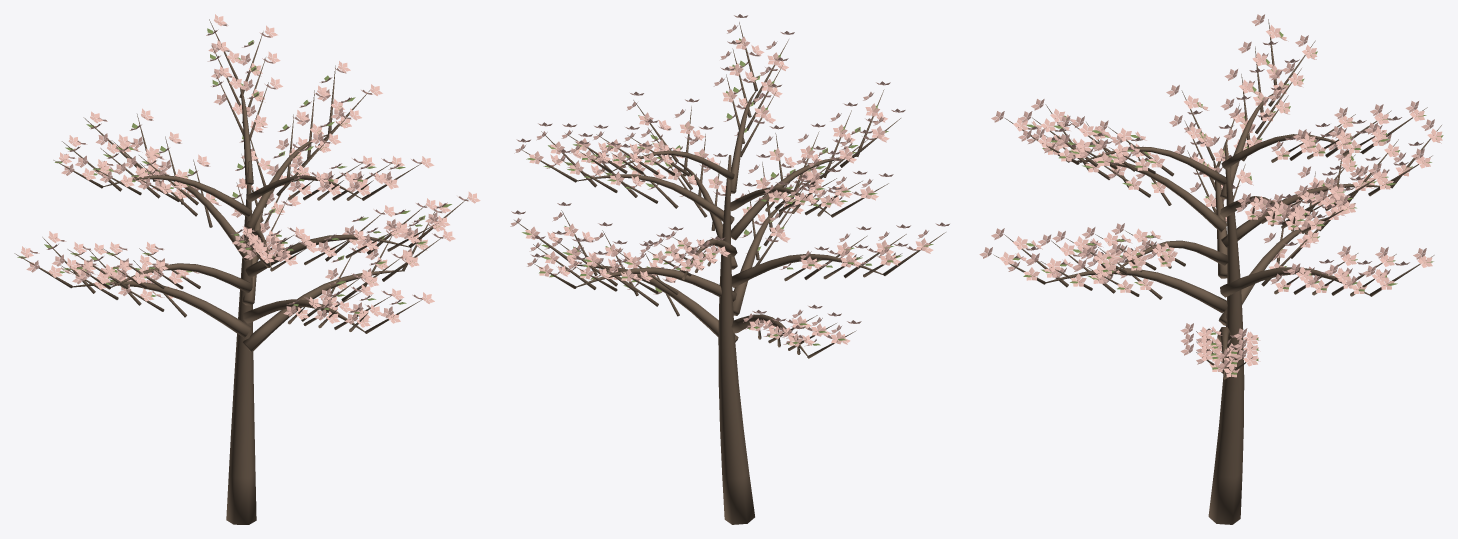
File: blossom-lod1.glb
The picture shows the model from 3 angles, left to right: view 1: azimuth 30°, elevation 25°; view 2: azimuth 150°, elevation 25°; view 3: azimuth 270°, elevation 25°; orthographic projection. The views are drawn at different scales.
Visible parts, largest first — view 1: rooted trunk and branch hierarchy, actual five petal flowers, three dimensional leaves; view 2: rooted trunk and branch hierarchy, actual five petal flowers, three dimensional leaves; view 3: actual five petal flowers, rooted trunk and branch hierarchy, three dimensional leaves.
Part boxes in pixels (bbox=[...]): rooted trunk and branch hierarchy: bbox=[14, 19, 467, 524]; actual five petal flowers: bbox=[20, 14, 480, 327]; three dimensional leaves: bbox=[17, 28, 451, 321]; rooted trunk and branch hierarchy: bbox=[514, 22, 945, 524]; actual five petal flowers: bbox=[510, 14, 949, 346]; three dimensional leaves: bbox=[522, 38, 933, 345]; actual five petal flowers: bbox=[979, 14, 1442, 377]; rooted trunk and branch hierarchy: bbox=[993, 19, 1441, 524]; three dimensional leaves: bbox=[1012, 31, 1443, 374].
Size of the model in its own units: 4.87 by 4.95 by 4.61.
